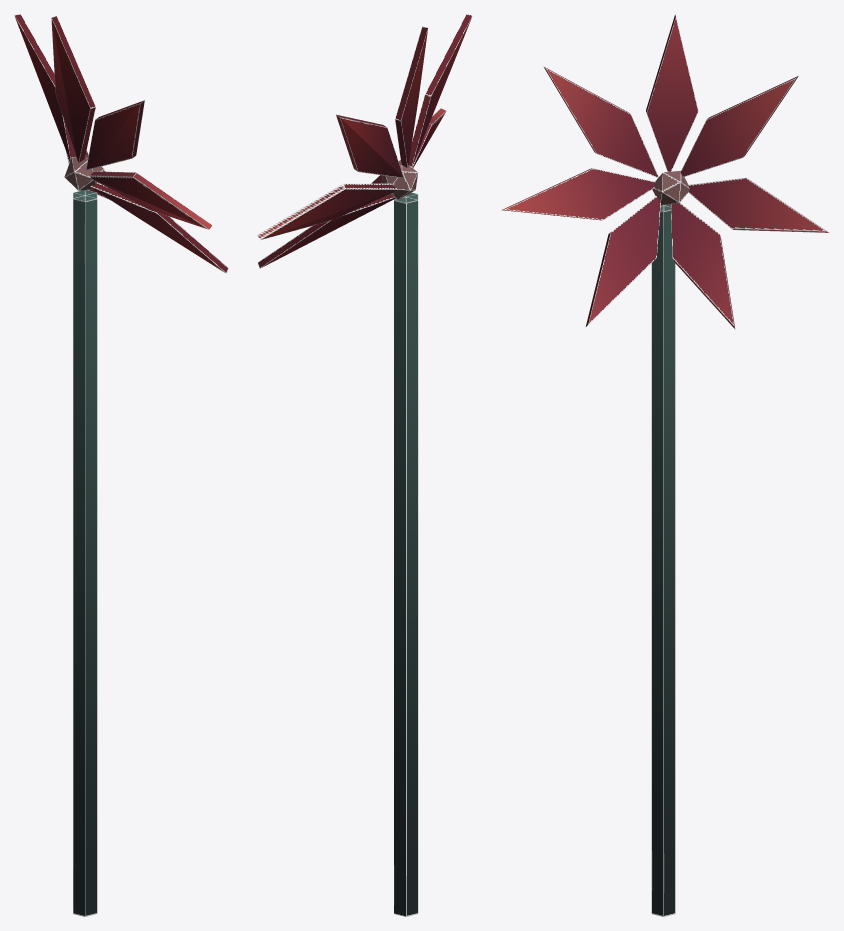
The model's file is Flor 3.obj.
3 views of the same model, side by side, from view 1: azimuth 30°, elevation 25°; view 2: azimuth 150°, elevation 25°; view 3: azimuth 270°, elevation 25° (orthographic).
Parts seen in each view (by area): view 1: Flor 3; view 2: Flor 3; view 3: Flor 3.
Boxes of the visible parts, x1,y1,x2,y2 form: Flor 3: [14, 14, 228, 916]; Flor 3: [257, 14, 472, 916]; Flor 3: [501, 14, 829, 916].
Size of the model in its own units: 0.1265 by 0.7682 by 0.2587.
1 material, 1 textured.
